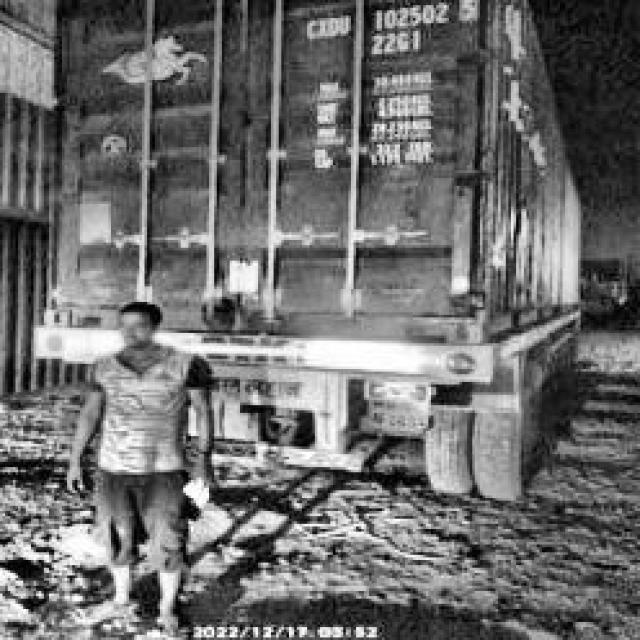ISO: (369, 29, 427, 56)
container_number: (308, 0, 490, 42)
